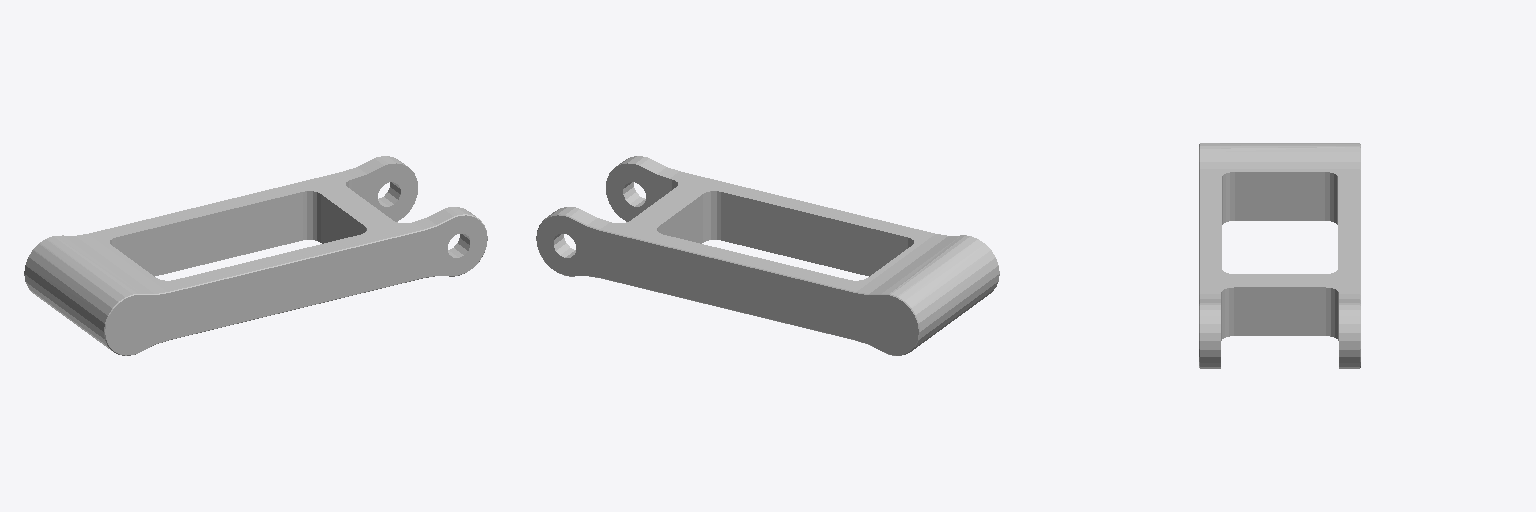
The model's file is gripper_link20.obj.
The picture shows the model from 3 angles: view 1: azimuth 30°, elevation 25°; view 2: azimuth 150°, elevation 25°; view 3: azimuth 270°, elevation 25°; orthographic projection.
Visible parts, largest first — view 1: default; view 2: default; view 3: default.
Boxes of the visible parts, x1=… form: default: x1=24, y1=156, x2=487, y2=355; default: x1=536, y1=156, x2=999, y2=355; default: x1=1199, y1=143, x2=1360, y2=368.
Size of the model in its own units: 0.0495 by 0.0075 by 0.018.